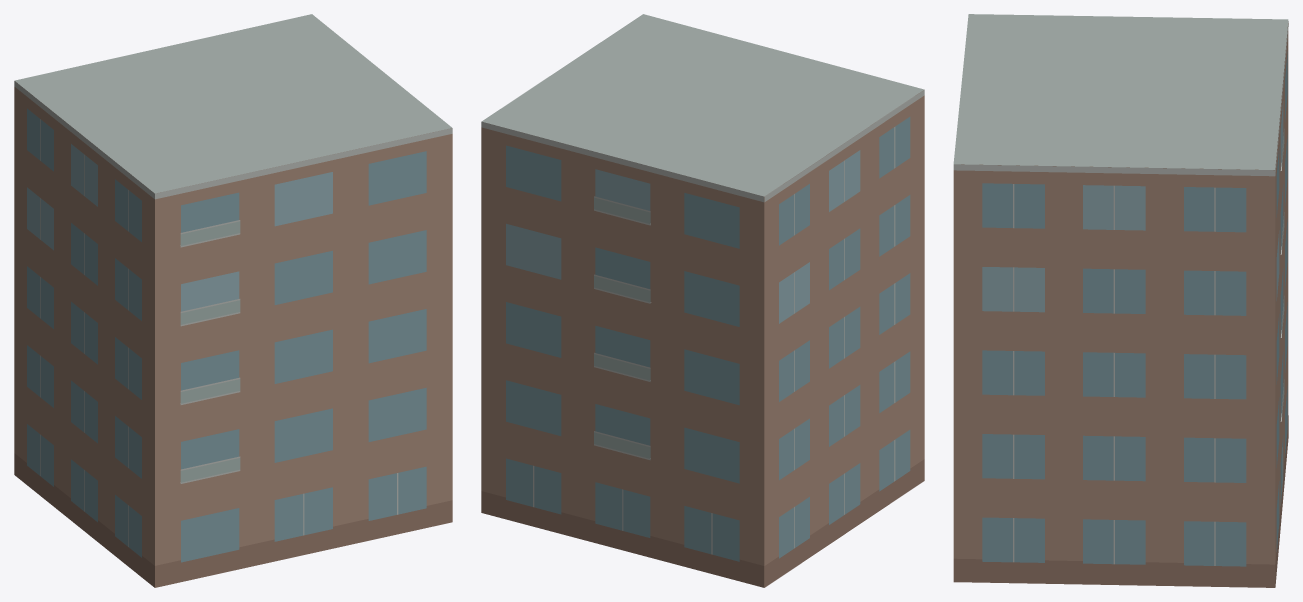
The model's file is survey-upis-32876546.glb.
3 renders of one model, left to right at view 1: azimuth 30°, elevation 25°; view 2: azimuth 150°, elevation 25°; view 3: azimuth 270°, elevation 25°, orthographic. The views are drawn at different scales.
Parts seen in each view (by area): view 1: survey-upis-32876546.tmp; view 2: survey-upis-32876546.tmp; view 3: survey-upis-32876546.tmp.
Boxes of the visible parts, bbox=[...] form: survey-upis-32876546.tmp: bbox=[14, 14, 452, 587]; survey-upis-32876546.tmp: bbox=[481, 14, 924, 587]; survey-upis-32876546.tmp: bbox=[953, 14, 1288, 587].
Bounding box in the file's own units: 13.23 × 16.5 × 12.
